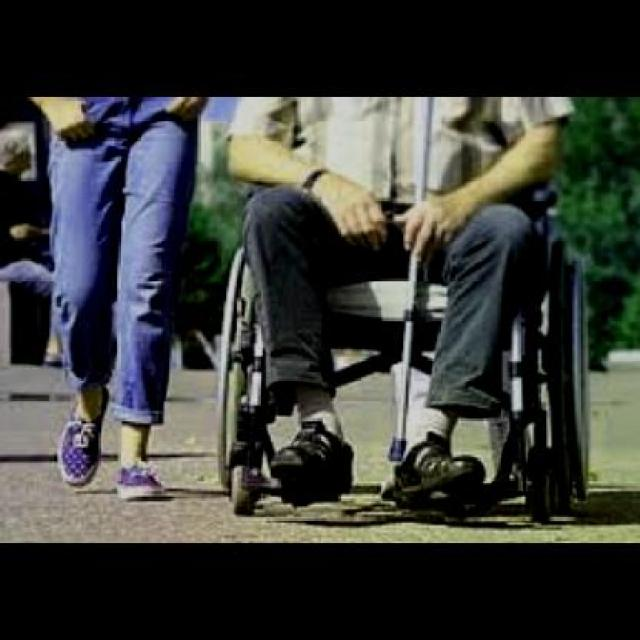wheelchairs: (211, 122, 597, 540)
